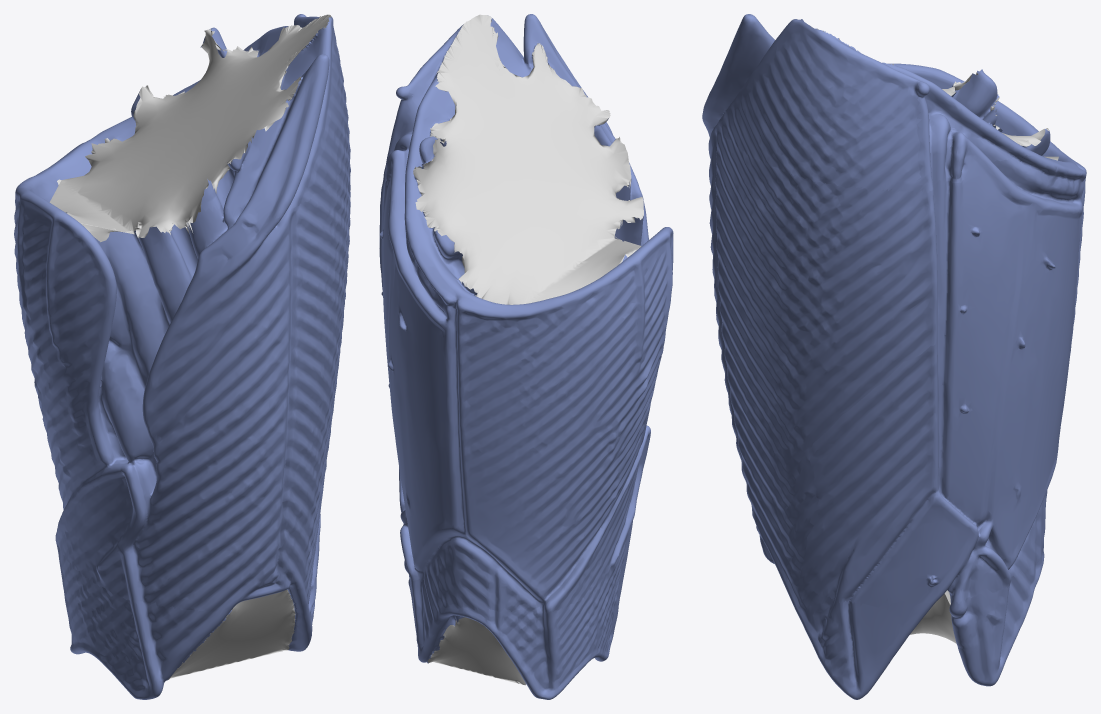
File: Hi3D_Segmented Pastel Female Android 3D Model Asset_part36_20261014_192059.glb
3 views of the same model, side by side, from view 1: azimuth 30°, elevation 25°; view 2: azimuth 150°, elevation 25°; view 3: azimuth 270°, elevation 25° (orthographic). The views are drawn at different scales.
Visible parts, largest first — view 1: Hi3D_Segmented Pastel Female Android 3D Model Asset_part36_2; view 2: Hi3D_Segmented Pastel Female Android 3D Model Asset_part36_2; view 3: Hi3D_Segmented Pastel Female Android 3D Model Asset_part36_2.
Part boxes in pixels (x1,y1,x2,y2): Hi3D_Segmented Pastel Female Android 3D Model Asset_part36_2: [14, 14, 350, 699]; Hi3D_Segmented Pastel Female Android 3D Model Asset_part36_2: [379, 14, 673, 699]; Hi3D_Segmented Pastel Female Android 3D Model Asset_part36_2: [702, 14, 1086, 699].
Size of the model in its own units: 0.0947 by 0.2006 by 0.1011.
